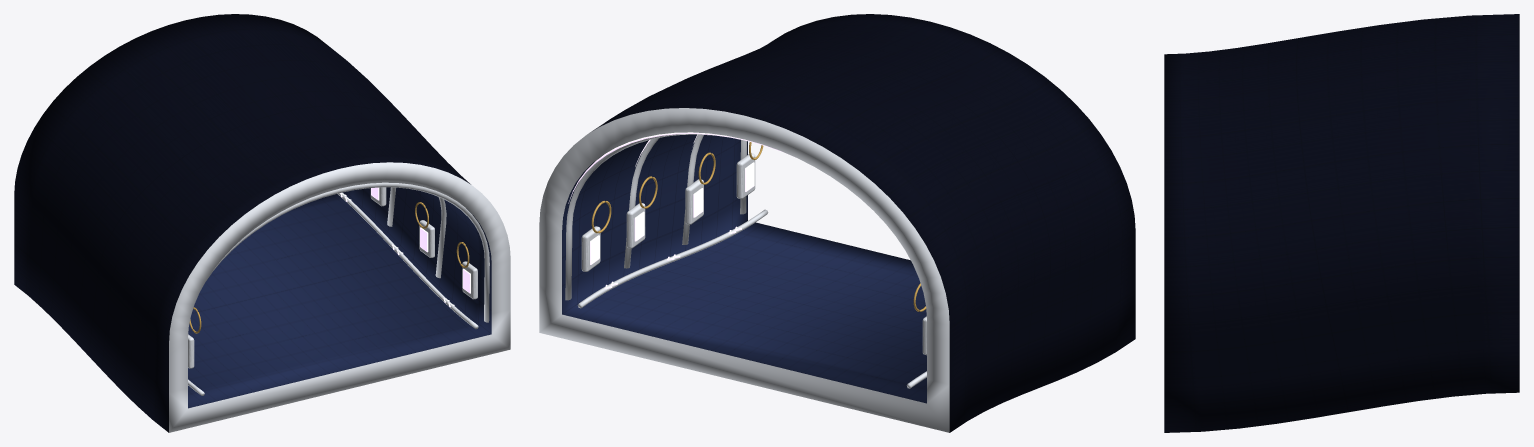
Rendered from grade_up.glb.
3 renders of one model, left to right at view 1: azimuth 30°, elevation 25°; view 2: azimuth 150°, elevation 25°; view 3: azimuth 270°, elevation 25°, orthographic. The views are drawn at different scales.
Parts seen in each view (by area): view 1: TunnelGeometry; view 2: TunnelGeometry; view 3: TunnelGeometry.
Part boxes in pixels (x1,y1,x2,y2): TunnelGeometry: (14,14,510,432); TunnelGeometry: (539,14,1135,432); TunnelGeometry: (1164,14,1519,432).
Size of the model in its own units: 15.3 by 11.02 by 12.
Materials: 5 (2 with a texture image).
